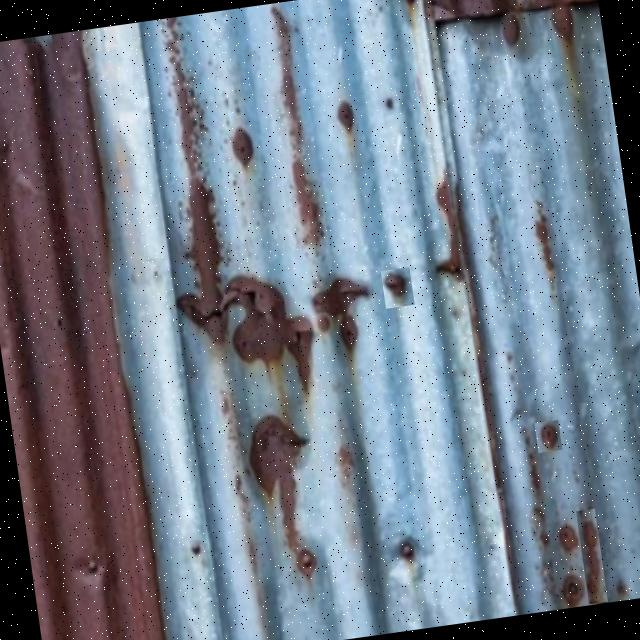Corrosion: (0, 0, 640, 640), (242, 408, 328, 585)
